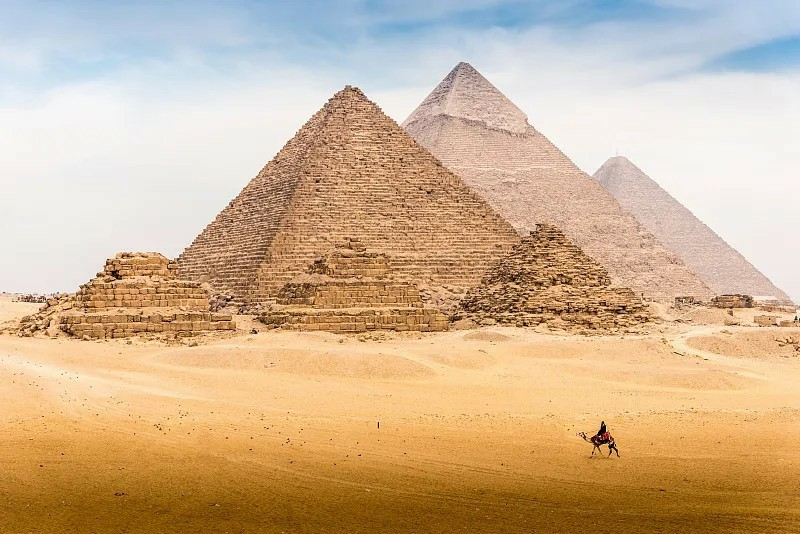Pyramid: (400, 64, 722, 305), (175, 86, 522, 300), (593, 156, 791, 308), (454, 224, 655, 326), (257, 238, 448, 330), (44, 251, 237, 335)
